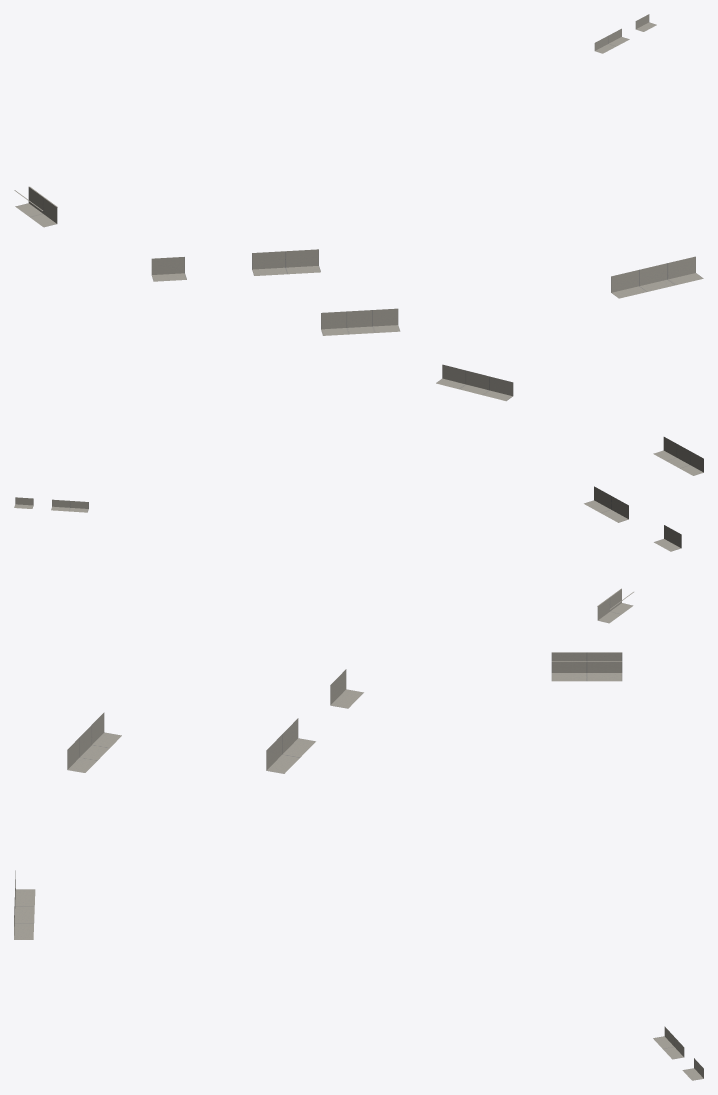
Rendered from kd_stage_135ebf_0_25.glb.
3 renders of one model, top to bottom at view 1: azimuth 30°, elevation 25°; view 2: azimuth 150°, elevation 25°; view 3: azimuth 270°, elevation 25°, orthographic. The views are drawn at different scales.
Visible parts, largest first — view 1: kd_stage_135ebf_0_25; view 2: kd_stage_135ebf_0_25; view 3: kd_stage_135ebf_0_25.
Boxes of the visible parts, x1,y1,x2,y2 form: kd_stage_135ebf_0_25: (14, 14, 703, 335); kd_stage_135ebf_0_25: (14, 364, 703, 623); kd_stage_135ebf_0_25: (14, 652, 703, 1080).
Size of the model in its own units: 12.8 by 0.3499 by 9.22.
1 material, 1 textured.
